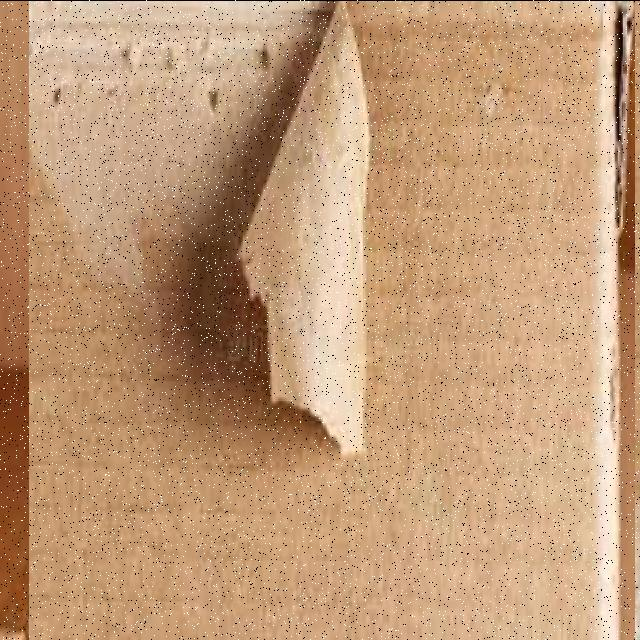defect: (29, 0, 635, 639)
